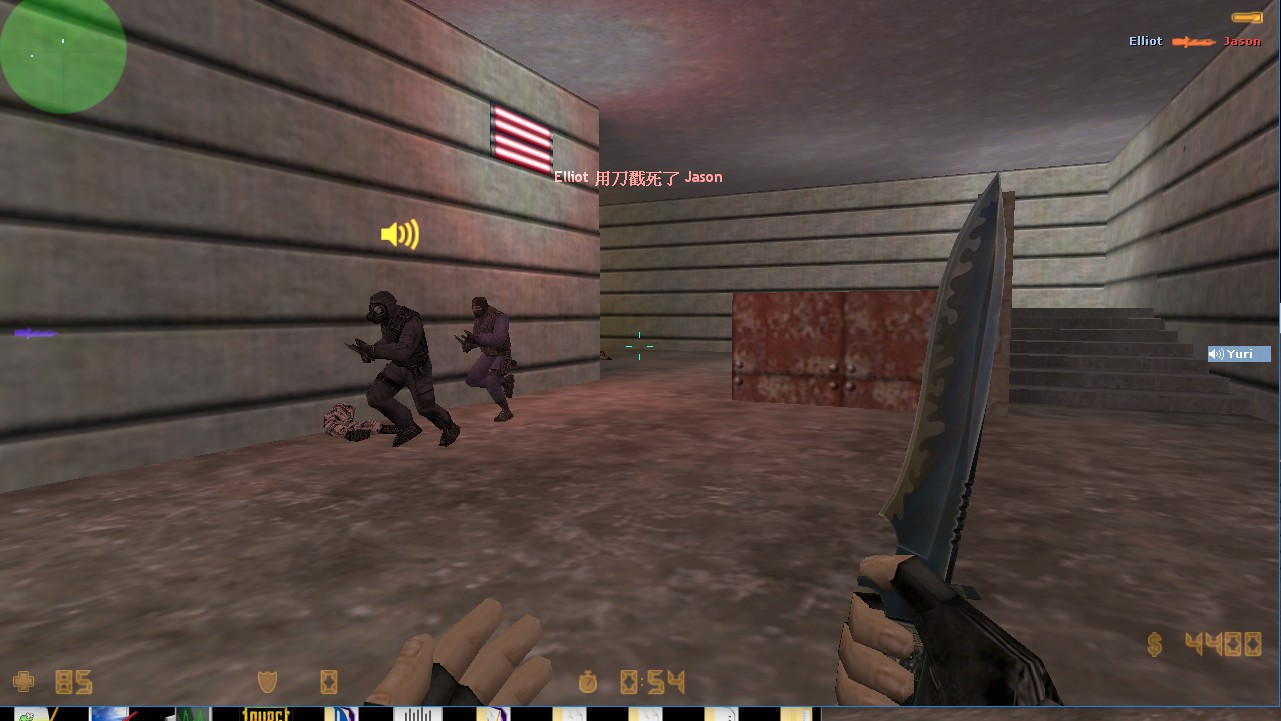person: (347, 289, 465, 454), (456, 287, 523, 426)
